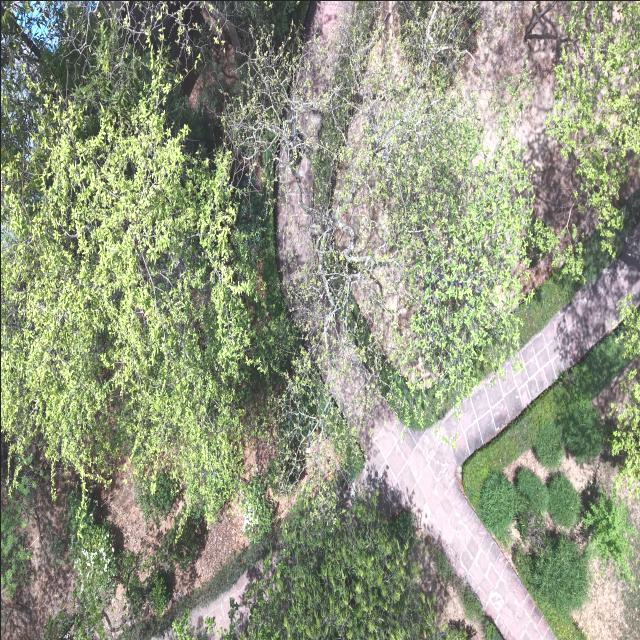DRY_AREA: (358, 227, 639, 639), (358, 242, 639, 639), (359, 241, 639, 639), (363, 256, 639, 639), (359, 382, 553, 639), (452, 1, 593, 243), (98, 467, 182, 581), (572, 558, 639, 639), (189, 569, 255, 638), (189, 570, 253, 637)
PATHWAYS: (362, 226, 639, 639)
VEGETATION_TREE: (1, 1, 556, 638), (1, 4, 528, 518), (1, 3, 357, 520), (1, 6, 278, 518), (226, 3, 529, 415), (226, 3, 529, 403), (321, 3, 529, 402), (222, 27, 382, 518), (462, 314, 638, 639), (224, 129, 362, 514), (463, 303, 639, 511), (223, 495, 465, 639), (462, 328, 628, 508), (44, 487, 204, 639), (217, 3, 303, 265), (547, 2, 639, 246), (256, 345, 363, 519), (515, 194, 639, 344), (110, 514, 205, 639), (114, 514, 206, 639), (116, 513, 205, 638), (51, 489, 117, 639), (1, 5, 60, 155), (424, 540, 502, 639), (512, 535, 585, 639), (1, 443, 47, 602), (522, 533, 588, 618), (423, 540, 488, 622), (69, 499, 116, 611), (582, 491, 633, 581), (1, 465, 35, 597), (609, 369, 639, 499), (610, 369, 639, 499), (210, 1, 308, 39), (72, 522, 115, 604), (560, 398, 603, 462), (1, 500, 28, 596), (515, 467, 547, 548), (478, 472, 516, 540), (159, 514, 200, 570), (240, 474, 273, 542), (135, 472, 175, 527), (547, 472, 579, 527), (121, 553, 147, 620), (516, 467, 548, 514), (616, 294, 639, 357), (622, 554, 639, 639), (534, 420, 563, 469), (515, 507, 544, 552), (147, 569, 170, 617), (458, 587, 487, 623), (42, 610, 74, 639), (172, 610, 194, 639), (483, 618, 501, 639)
